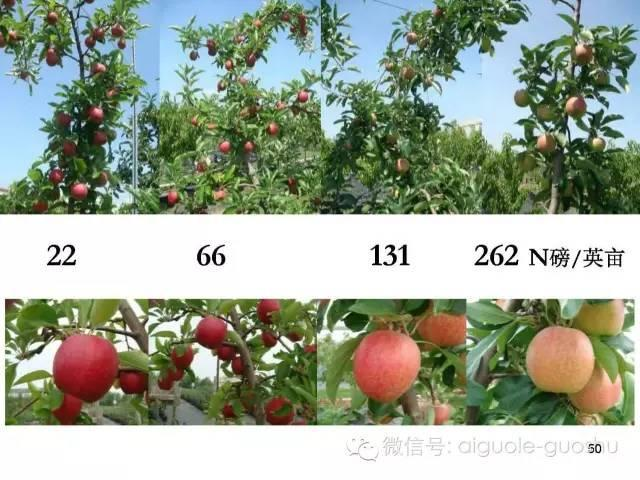apple: (351, 327, 420, 402), (524, 325, 594, 393), (49, 332, 117, 402), (196, 316, 226, 348), (117, 368, 146, 394), (564, 96, 586, 118), (572, 42, 591, 64), (535, 133, 555, 152), (91, 130, 106, 145)
